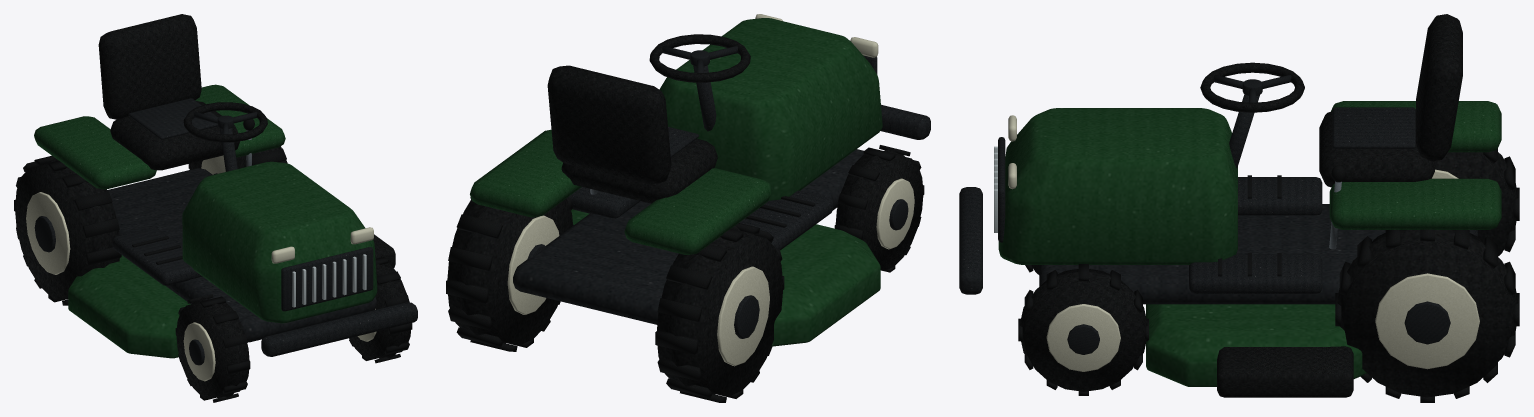
Rendered from Mower_LawnTractor_42in.gltf.
3 renders of one model, left to right at view 1: azimuth 30°, elevation 25°; view 2: azimuth 150°, elevation 25°; view 3: azimuth 270°, elevation 25°, orthographic. The views are drawn at different scales.
Visible parts, largest first — view 1: Mower_LawnTractor_42in__Body, Mower_LawnTractor_42in__Wheel_Rear_L, Mower_LawnTractor_42in__Wheel_Front_L, Mower_LawnTractor_42in__Wheel_Front_R, Mower_LawnTractor_42in__SteeringWheel, Mower_LawnTractor_42in__Wheel_Rear_R; view 2: Mower_LawnTractor_42in__Body, Mower_LawnTractor_42in__Wheel_Rear_L, Mower_LawnTractor_42in__Wheel_Rear_R, Mower_LawnTractor_42in__Wheel_Front_L, Mower_LawnTractor_42in__SteeringWheel; view 3: Mower_LawnTractor_42in__Body, Mower_LawnTractor_42in__Wheel_Rear_R, Mower_LawnTractor_42in__Wheel_Front_R, Mower_LawnTractor_42in__Wheel_Rear_L, Mower_LawnTractor_42in__SteeringWheel.
Part boxes in pixels (x1,y1,x2,y2): Mower_LawnTractor_42in__Body: [34, 14, 417, 358]; Mower_LawnTractor_42in__Wheel_Rear_L: [14, 155, 121, 305]; Mower_LawnTractor_42in__Wheel_Front_L: [175, 294, 250, 402]; Mower_LawnTractor_42in__Wheel_Front_R: [349, 257, 412, 363]; Mower_LawnTractor_42in__SteeringWheel: [183, 102, 267, 142]; Mower_LawnTractor_42in__Wheel_Rear_R: [188, 146, 287, 174]; Mower_LawnTractor_42in__Body: [470, 14, 930, 346]; Mower_LawnTractor_42in__Wheel_Rear_L: [655, 223, 784, 402]; Mower_LawnTractor_42in__Wheel_Rear_R: [446, 197, 573, 351]; Mower_LawnTractor_42in__Wheel_Front_L: [834, 145, 924, 272]; Mower_LawnTractor_42in__SteeringWheel: [649, 34, 750, 82]; Mower_LawnTractor_42in__Body: [959, 14, 1501, 397]; Mower_LawnTractor_42in__Wheel_Rear_R: [1335, 229, 1519, 402]; Mower_LawnTractor_42in__Wheel_Front_R: [1018, 264, 1148, 395]; Mower_LawnTractor_42in__Wheel_Rear_L: [1432, 148, 1519, 256]; Mower_LawnTractor_42in__SteeringWheel: [1200, 62, 1304, 112].
Bounding box in the file's own units: 1.36 × 1.13 × 1.89.
Materials: 1 (1 with a texture image).
